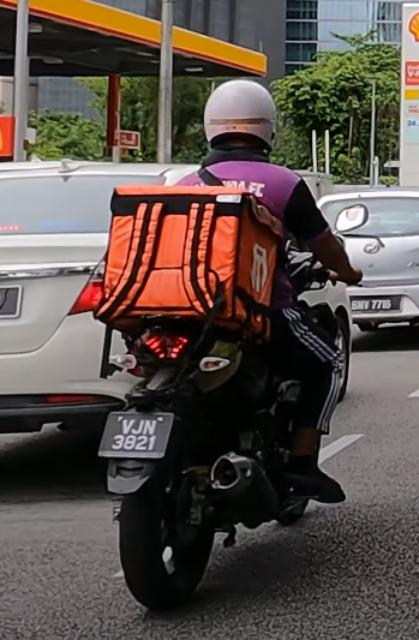License_Plate: (102, 411, 169, 463)
motorcycle: (71, 188, 363, 611)
